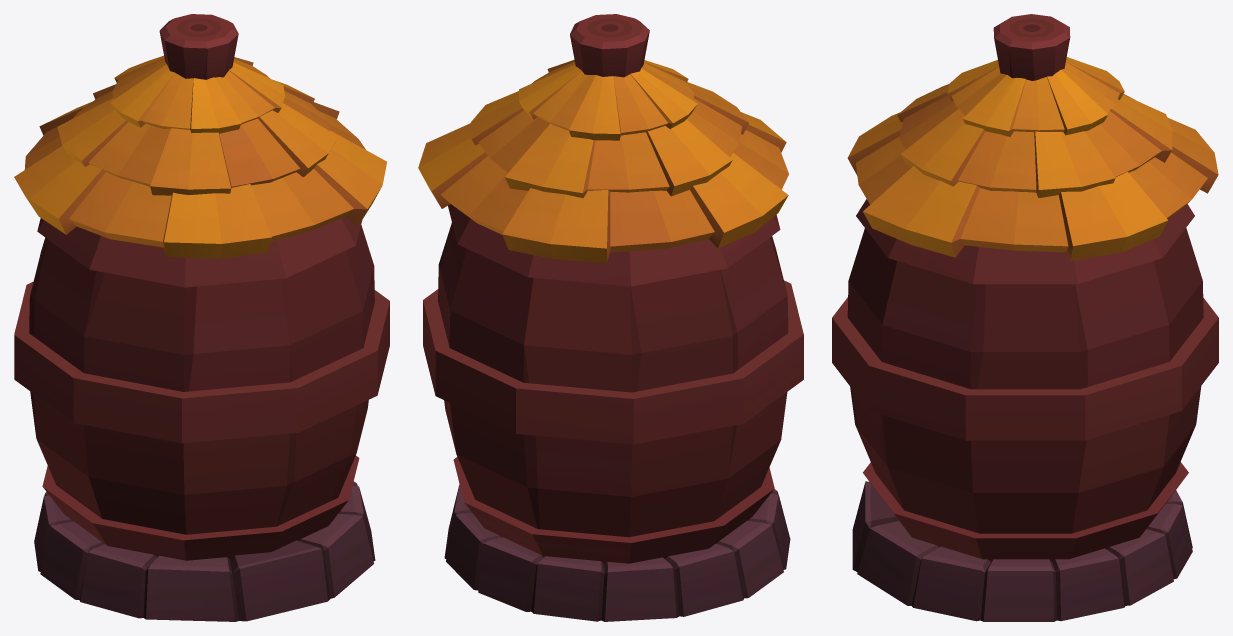
Rendered from grain_storage.glb.
3 views of the same model, side by side, from view 1: azimuth 30°, elevation 25°; view 2: azimuth 150°, elevation 25°; view 3: azimuth 270°, elevation 25° (orthographic).
Visible parts, largest first — view 1: grain_storage; view 2: grain_storage; view 3: grain_storage.
Boxes of the visible parts, bbox=[...] form: grain_storage: bbox=[14, 14, 389, 621]; grain_storage: bbox=[418, 14, 803, 621]; grain_storage: bbox=[832, 14, 1218, 621].
Size of the model in its own units: 1.71 by 2.64 by 1.77.
Materials: 1 (1 with a texture image).
